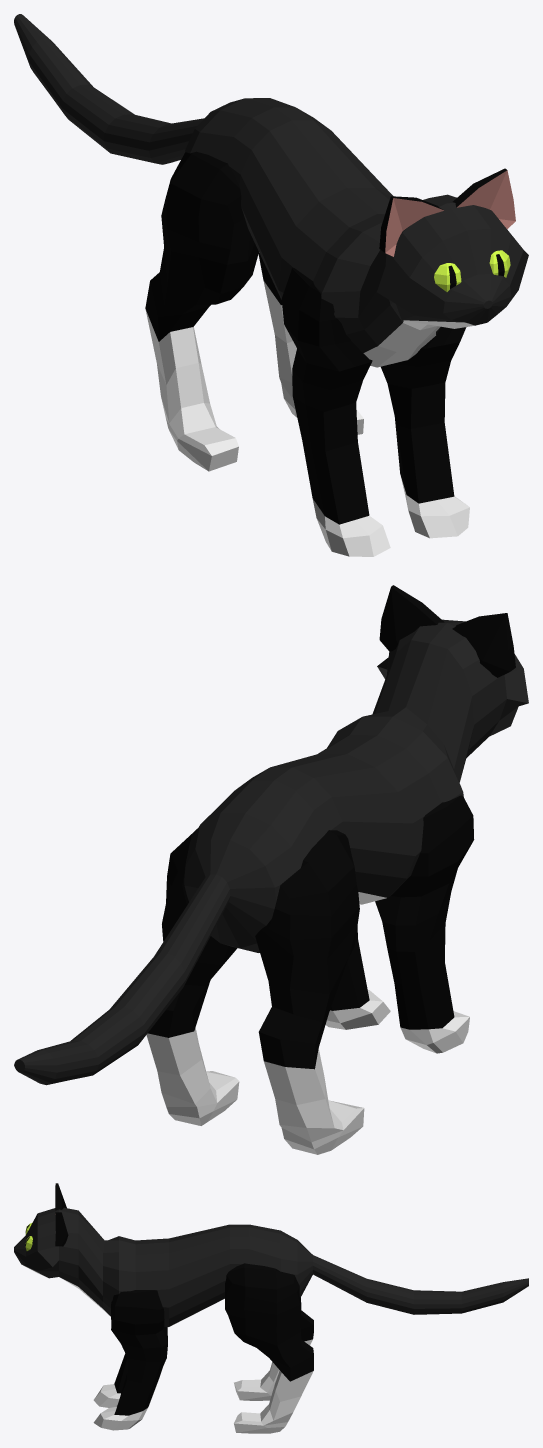
The model's file is Computer_mouseCat.fbx.
3 views of the same model, one above another, from view 1: azimuth 30°, elevation 25°; view 2: azimuth 150°, elevation 25°; view 3: azimuth 270°, elevation 25° (orthographic). The views are drawn at different scales.
Parts seen in each view (by area): view 1: Cylinder, Cylinder.001, Cylinder.002, Cube, Sphere; view 2: Cylinder, Cylinder.002, Cylinder.001, Cube; view 3: Cylinder, Cylinder.002, Cylinder.001, Cube.
Part boxes in pixels (x1,y1,x2,y2): Cylinder: (14,14,528,367); Cylinder.001: (281,267,469,556); Cylinder.002: (145,151,363,471); Cube: (379,168,515,256); Sphere: (434,250,510,291); Cylinder: (14,619,528,1085); Cylinder.002: (146,828,364,1154); Cylinder.001: (325,795,474,1053); Cube: (379,585,515,677); Cylinder: (14,1207,528,1327); Cylinder.002: (225,1263,313,1433); Cylinder.001: (93,1290,167,1430); Cube: (55,1183,68,1246).
Bounding box in the file's own units: 197 × 448 × 970.
